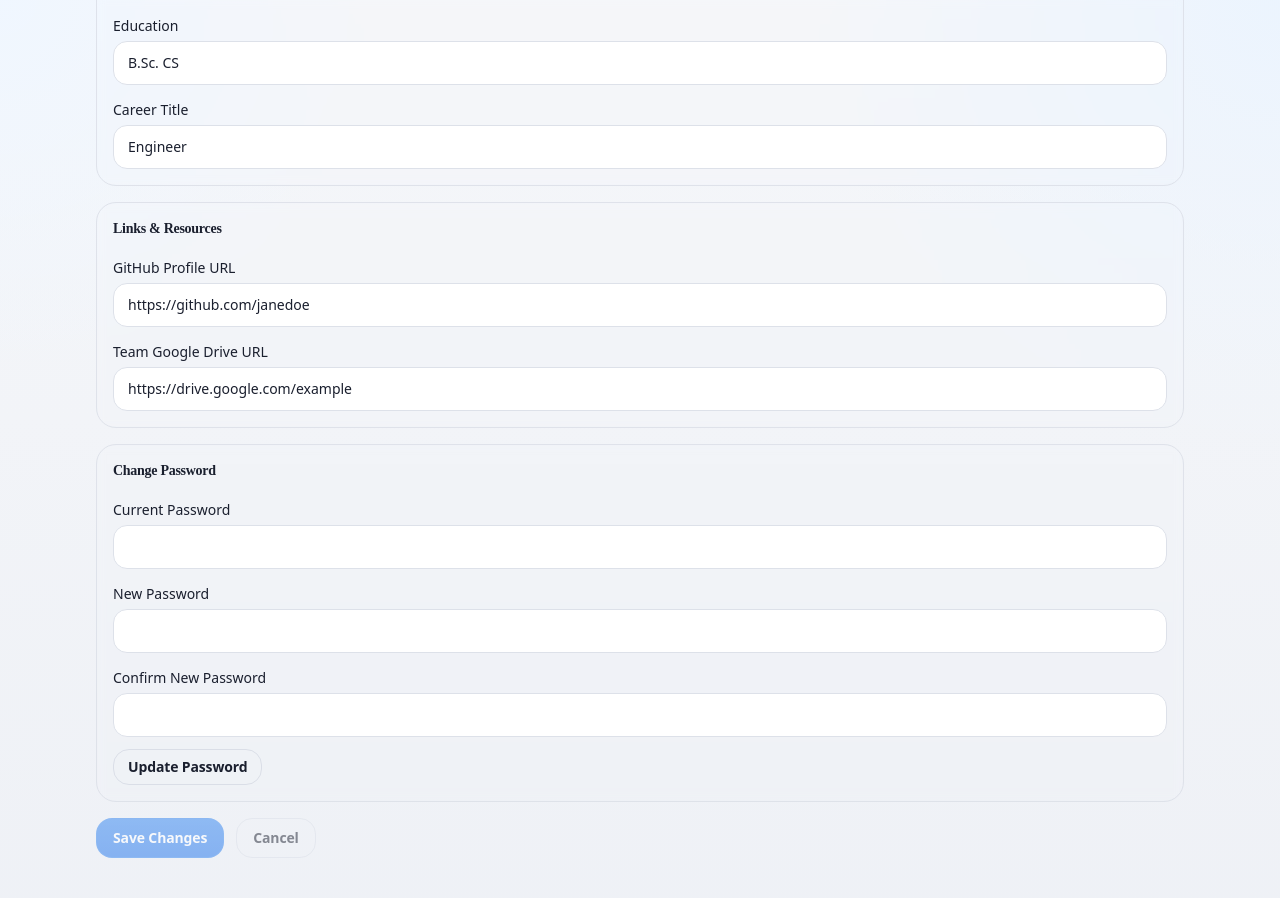
Test: ProfilePage › password validation - empty fields error
(page scrolled)
Click the button "Update Password" at (188, 766), box [113,748,262,784]
(page scrolled)
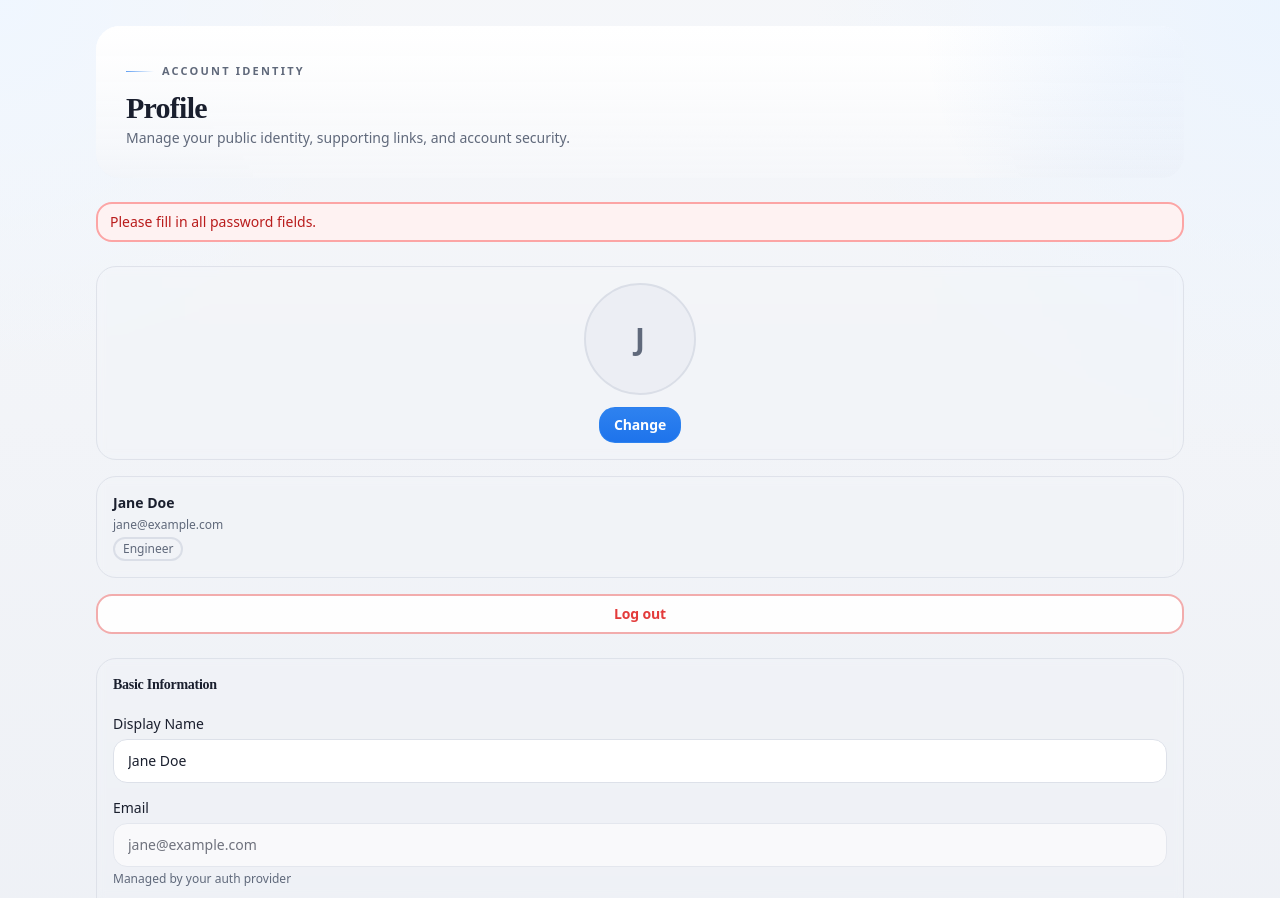
Now the message reads "Please fill in all password fields.", box [110,212,316,230]
